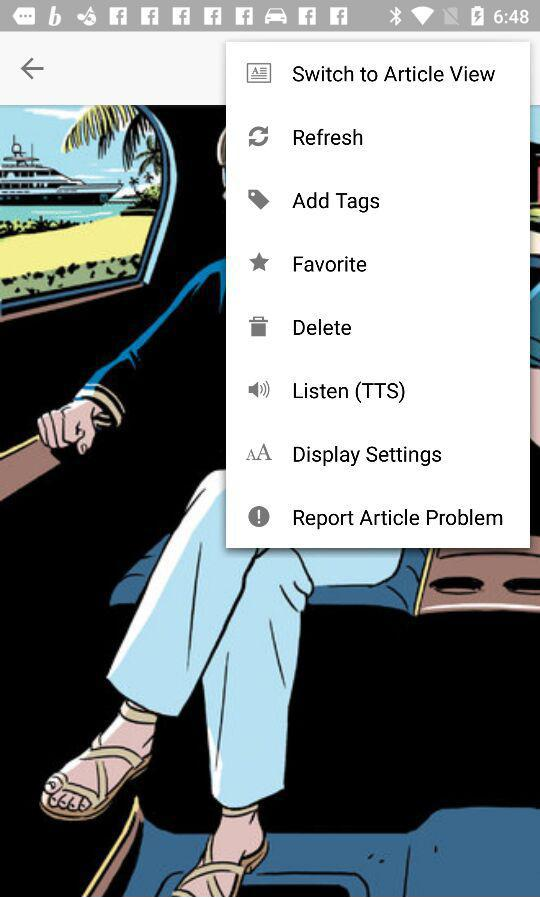Icon: (247, 63, 273, 85), (22, 58, 45, 81), (248, 506, 271, 528), (248, 189, 271, 211), (249, 126, 270, 149), (249, 252, 271, 273)
Image: (246, 443, 273, 462), (249, 316, 270, 338), (249, 380, 271, 399)
Modal: (226, 42, 530, 549)
Text: (293, 508, 504, 531), (292, 64, 496, 83), (293, 445, 442, 468), (293, 381, 406, 405), (292, 192, 380, 215), (293, 255, 368, 274), (294, 128, 363, 147), (293, 318, 352, 337)
UpperTaskBar: (1, 1, 540, 33)
